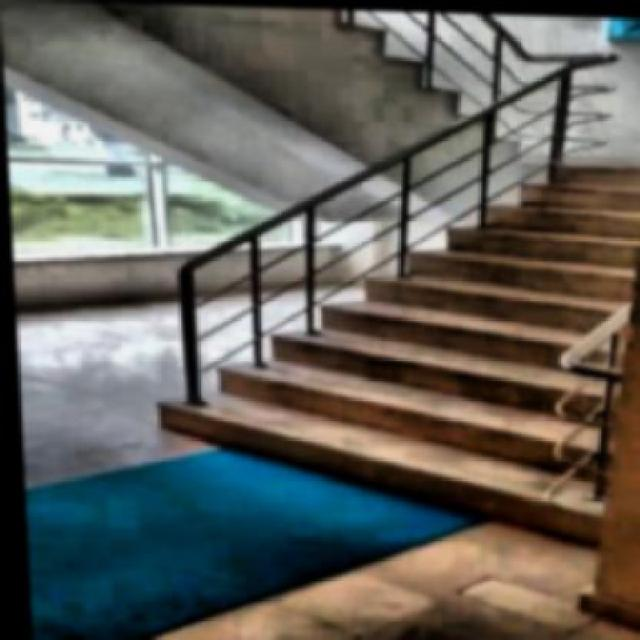stair: (121, 99, 638, 563)
